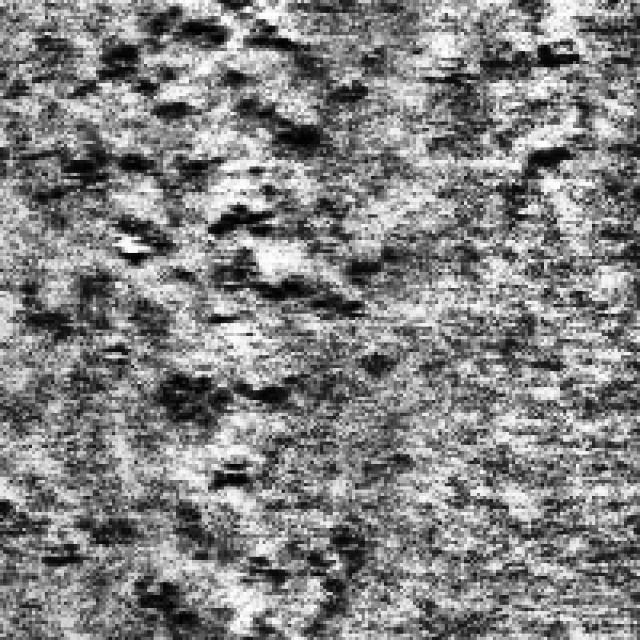Crazing: (41, 0, 362, 426), (9, 438, 410, 634)
